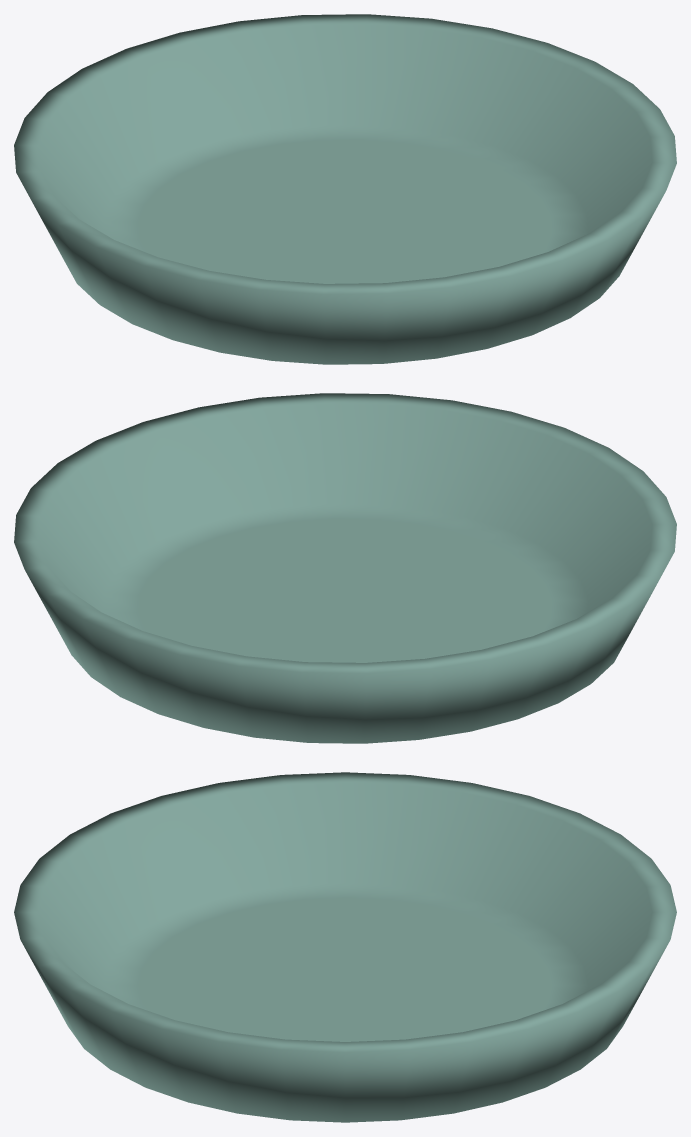
Rendered from plate.glb.
3 views of the same model, one above another, from view 1: azimuth 30°, elevation 25°; view 2: azimuth 150°, elevation 25°; view 3: azimuth 270°, elevation 25° (orthographic).
Visible parts, largest first — view 1: Cylinder.043; view 2: Cylinder.043; view 3: Cylinder.043.
Part boxes in pixels (bbox=[...]): Cylinder.043: bbox=[14, 14, 676, 364]; Cylinder.043: bbox=[14, 393, 676, 743]; Cylinder.043: bbox=[14, 772, 676, 1122].
Bounding box in the file's own units: 0.3372 × 0.0509 × 0.3372.
